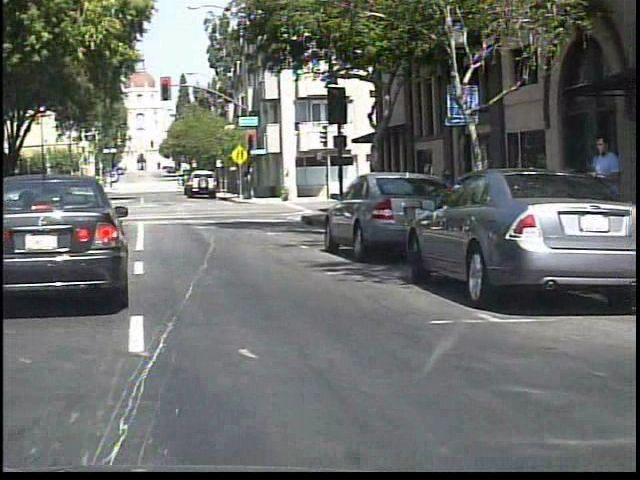person: (583, 134, 626, 270), (15, 173, 35, 209), (2, 175, 19, 211)
